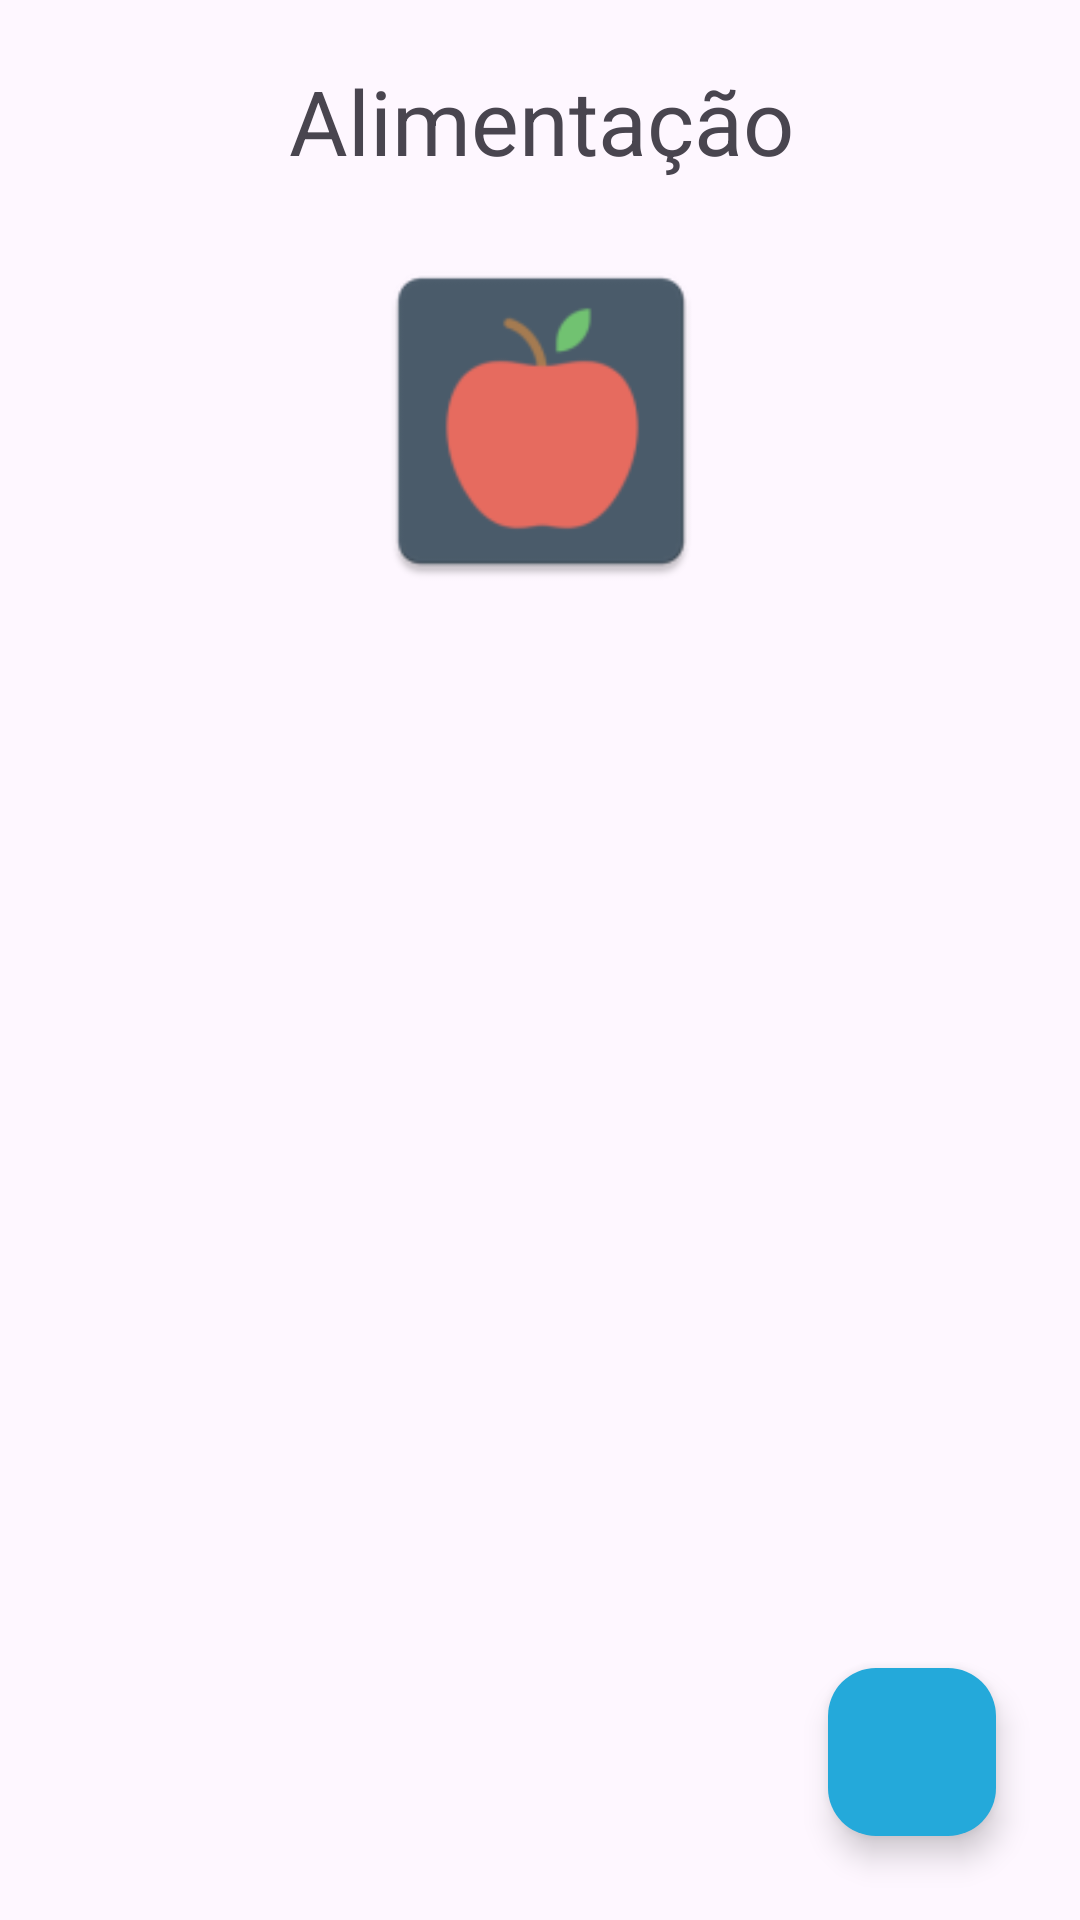

Icon bounding boxes for this 1080x1920 phone screenshot, format (x1, y1, x2, y2):
diet: (396, 277, 686, 573)
